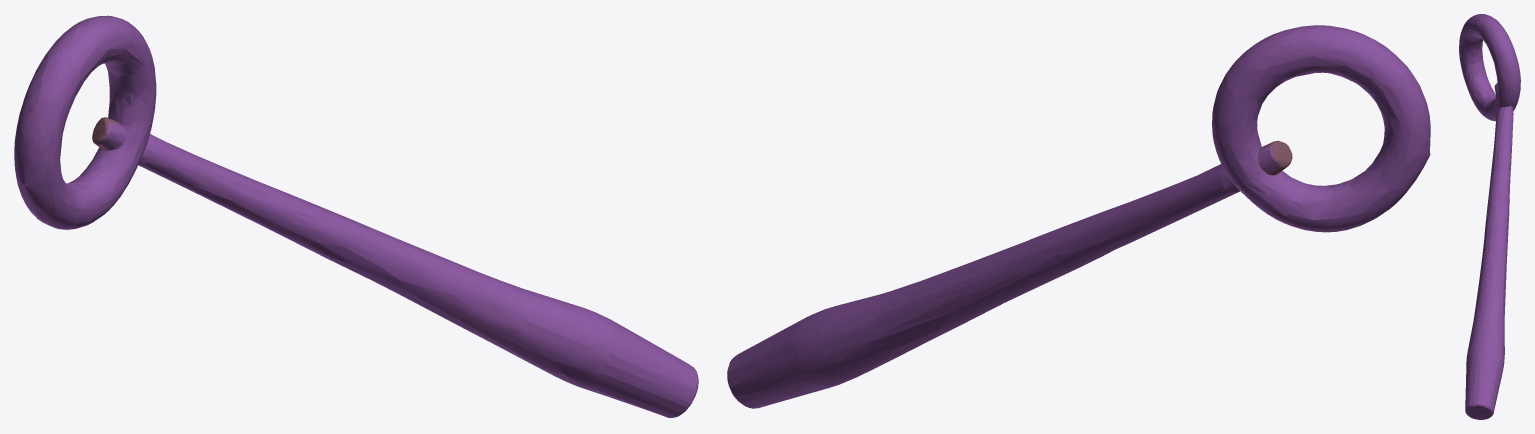
The model's file is bubbleWand.1baf843e.glb.
The picture shows the model from 3 angles, left to right: view 1: azimuth 30°, elevation 25°; view 2: azimuth 150°, elevation 25°; view 3: azimuth 270°, elevation 25°; orthographic projection. The views are drawn at different scales.
Visible parts, largest first — view 1: output_unwrapped; view 2: output_unwrapped; view 3: output_unwrapped.
Part boxes in pixels (left/top/right/bottom): output_unwrapped: left=14, top=15, right=698, bottom=417; output_unwrapped: left=727, top=25, right=1430, bottom=408; output_unwrapped: left=1459, top=14, right=1520, bottom=419.
Bounding box in the file's own units: 1.9 × 1.39 × 0.2974.
Materials: 1 (1 with a texture image).
